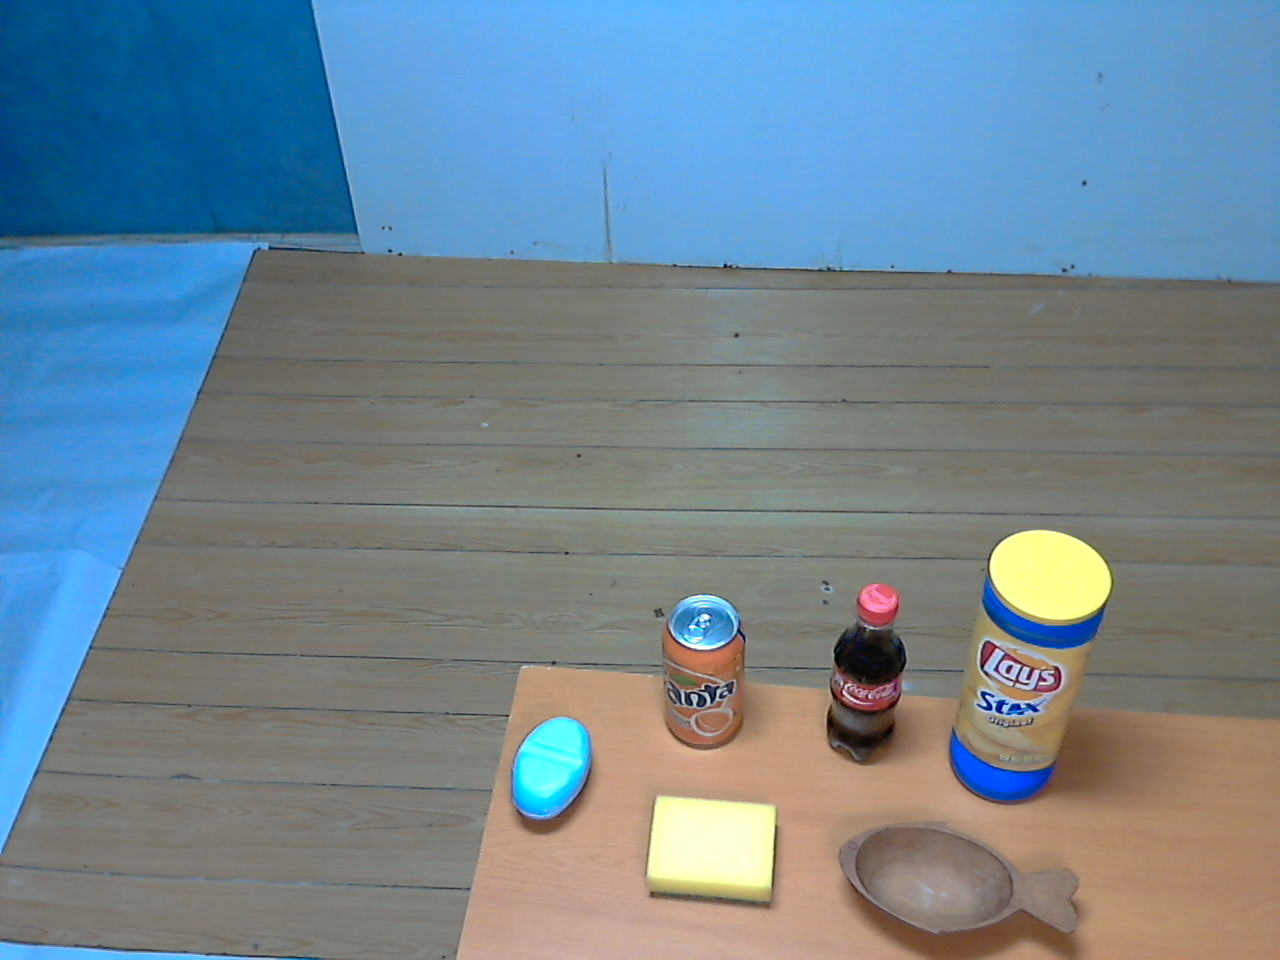coca: (820, 570, 916, 770)
esponja: (629, 781, 791, 920)
jabon: (504, 706, 601, 839)
lata: (654, 588, 754, 764)
papas: (942, 528, 1118, 818)
pescado: (829, 809, 1089, 960)
